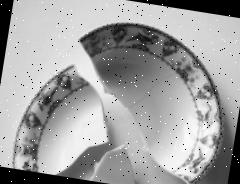glass: (9, 6, 239, 184)
